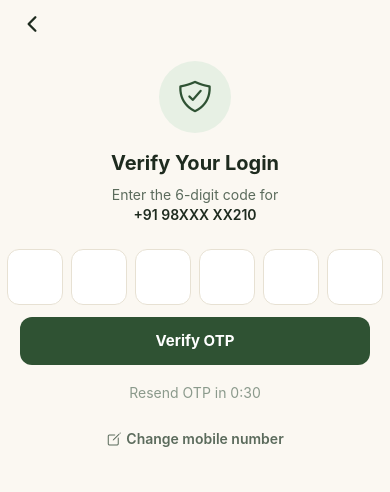
it: OTPVerificationScreen › verifies a complete code, shows a success state, then navigates to Main
Type "1" into the field named "Digit 1 of 6" at (35, 277), box [7, 249, 63, 305]
Type "2" into the field named "Digit 2 of 6" at (99, 277), box [71, 249, 127, 305]
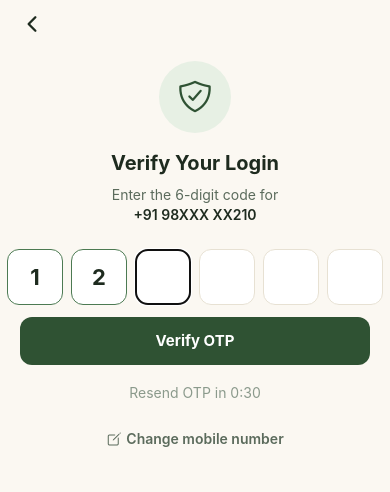
Type "3" into the field named "Digit 3 of 6" at (163, 277), box [135, 249, 191, 305]
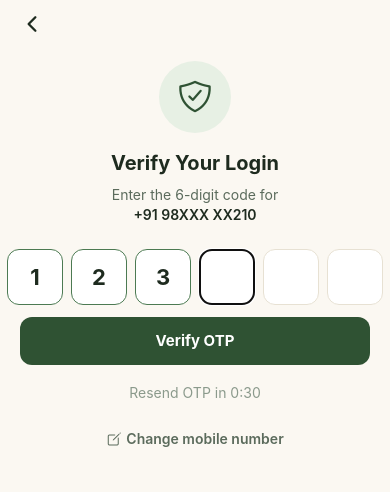
Type "4" into the field named "Digit 4 of 6" at (227, 277), box [199, 249, 255, 305]
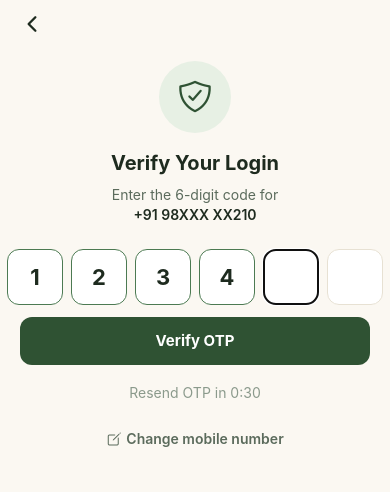
Type "5" into the field named "Digit 5 of 6" at (291, 277), box [263, 249, 319, 305]
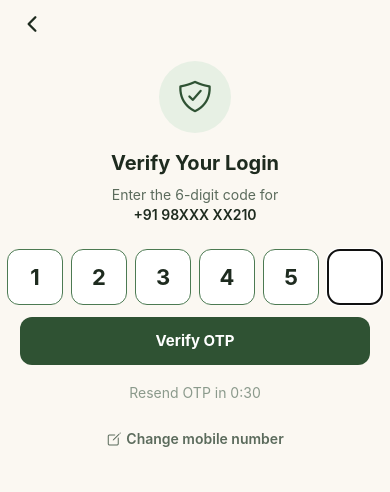
Type "6" into the field named "Digit 6 of 6" at (355, 277), box [327, 249, 383, 305]
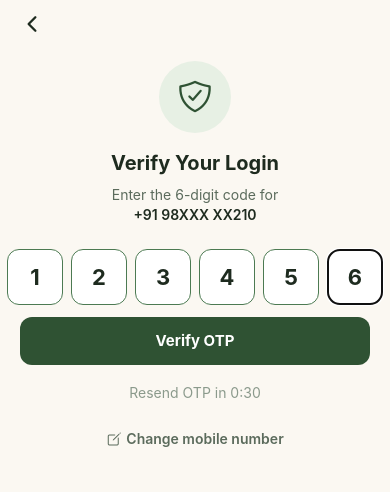
Click the button "Verify OTP" at (195, 341), box [20, 317, 370, 365]
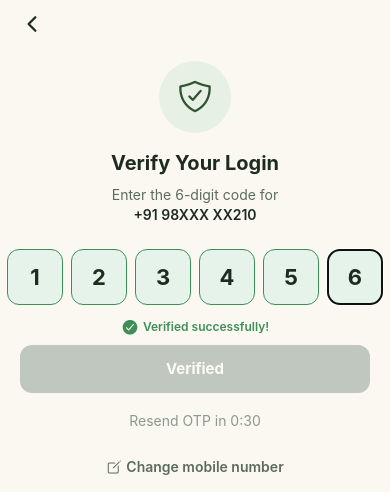
Expected: the text "Verified successfully!" is shown, [143, 319, 269, 335]
